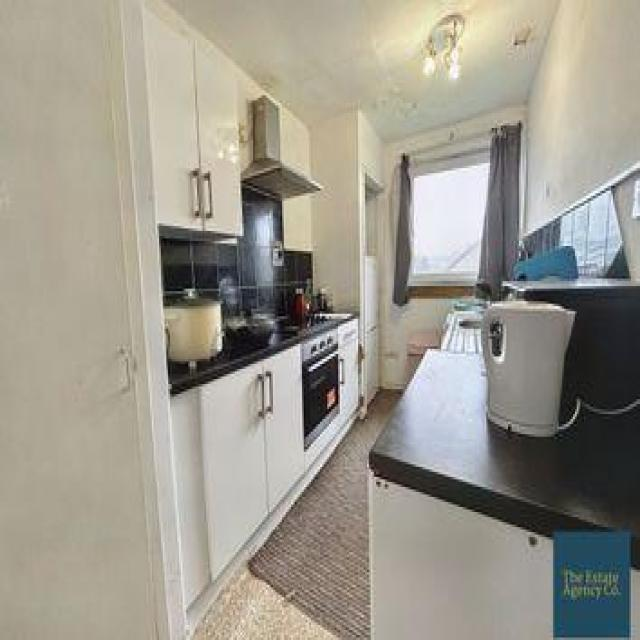Wall: (169, 0, 553, 140), (194, 390, 400, 638), (523, 0, 640, 232), (281, 106, 381, 313), (144, 1, 264, 126), (379, 139, 418, 389), (409, 298, 451, 336), (240, 142, 251, 167)
